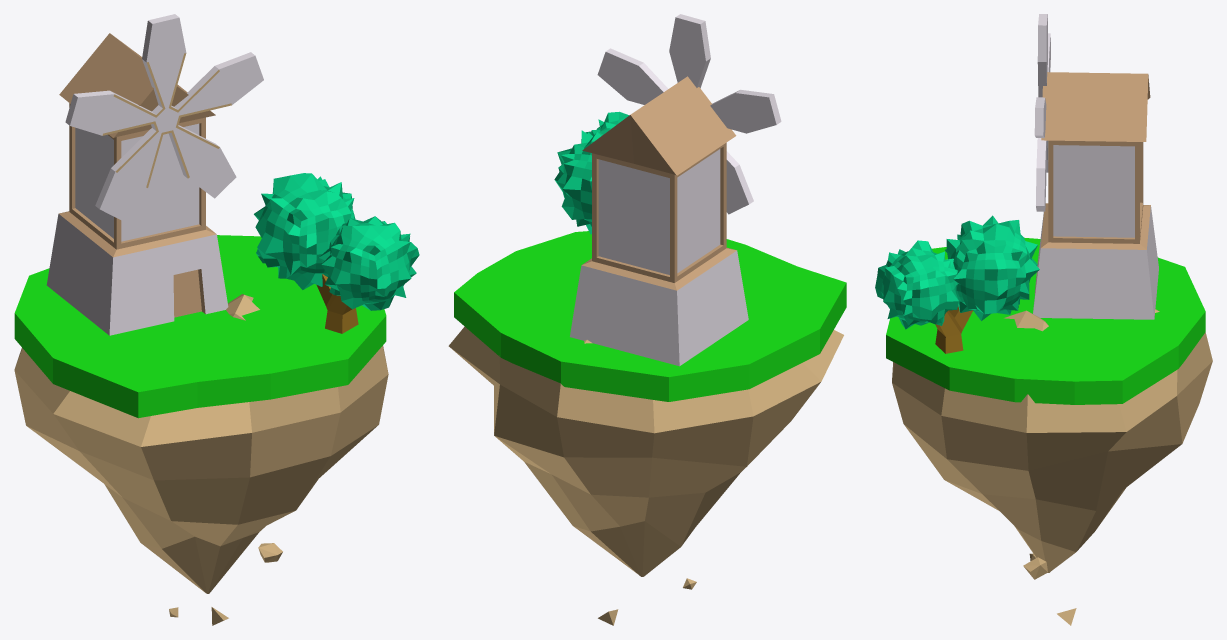
Rendered from island_0.glb.
The picture shows the model from 3 angles, left to right: view 1: azimuth 30°, elevation 25°; view 2: azimuth 150°, elevation 25°; view 3: azimuth 270°, elevation 25°; orthographic projection. The views are drawn at different scales.
Parts seen in each view (by area): view 1: Island, Green_platform, Mill, Tree, propeller; view 2: Island, Mill, Green_platform, propeller, Tree; view 3: Island, Mill, Green_platform, Tree, propeller.
Boxes of the visible parts, box(x1,y1,x2,y2) form: Island: box(14, 294, 388, 625); Green_platform: box(14, 235, 386, 418); Mill: box(46, 33, 228, 335); Tree: box(254, 173, 419, 333); propeller: box(65, 14, 263, 220); Island: box(448, 326, 843, 625); Mill: box(570, 76, 748, 366); Green_platform: box(454, 231, 846, 401); propeller: box(597, 14, 781, 214); Tree: box(554, 111, 628, 234); Island: box(892, 309, 1212, 625); Mill: box(1033, 72, 1158, 319); Green_platform: box(886, 237, 1205, 404); Tree: box(875, 215, 1039, 353); propeller: box(1034, 14, 1050, 211).
Bounding box in the file's own units: 1.06 × 1.95 × 1.04.
